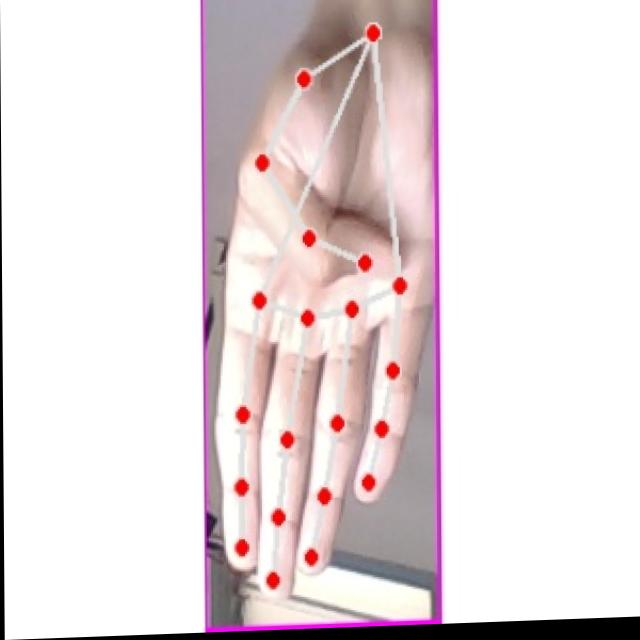B: (209, 20, 435, 616)
